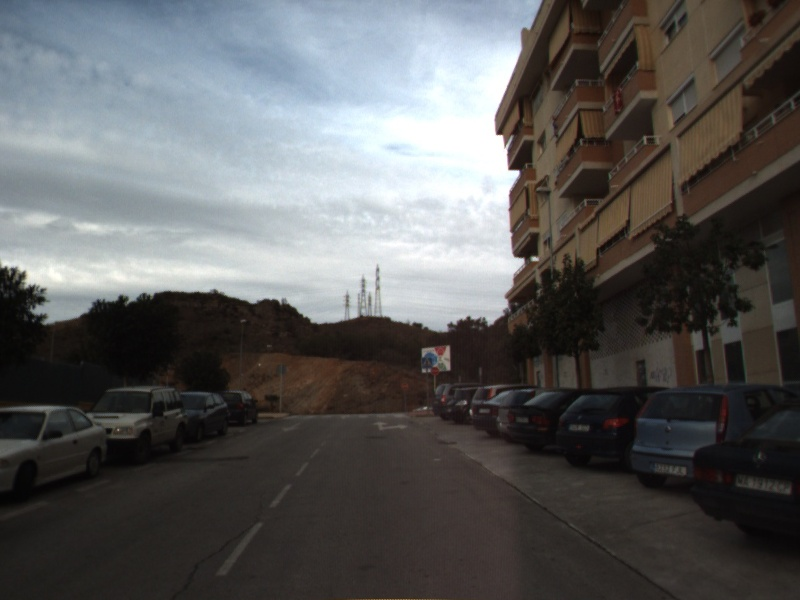STRAIGHT_RIGHT: (370, 419, 410, 432)
